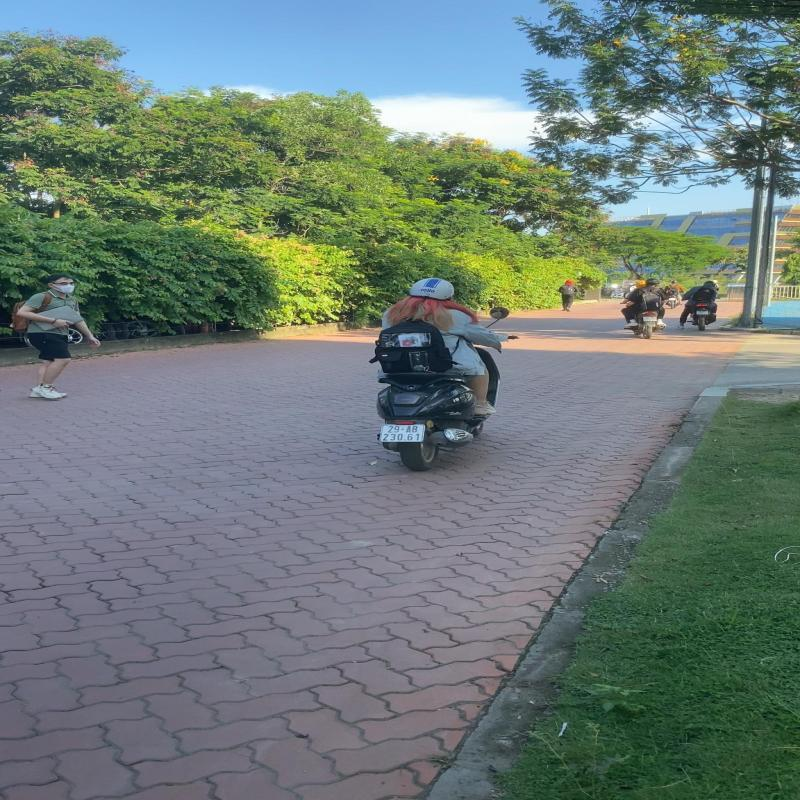helmet: (410, 278, 457, 301), (646, 278, 662, 286), (636, 280, 646, 288)
licenseplate: (382, 424, 426, 442), (644, 316, 658, 322)
motorcyclist: (374, 278, 503, 470), (618, 277, 672, 339)
